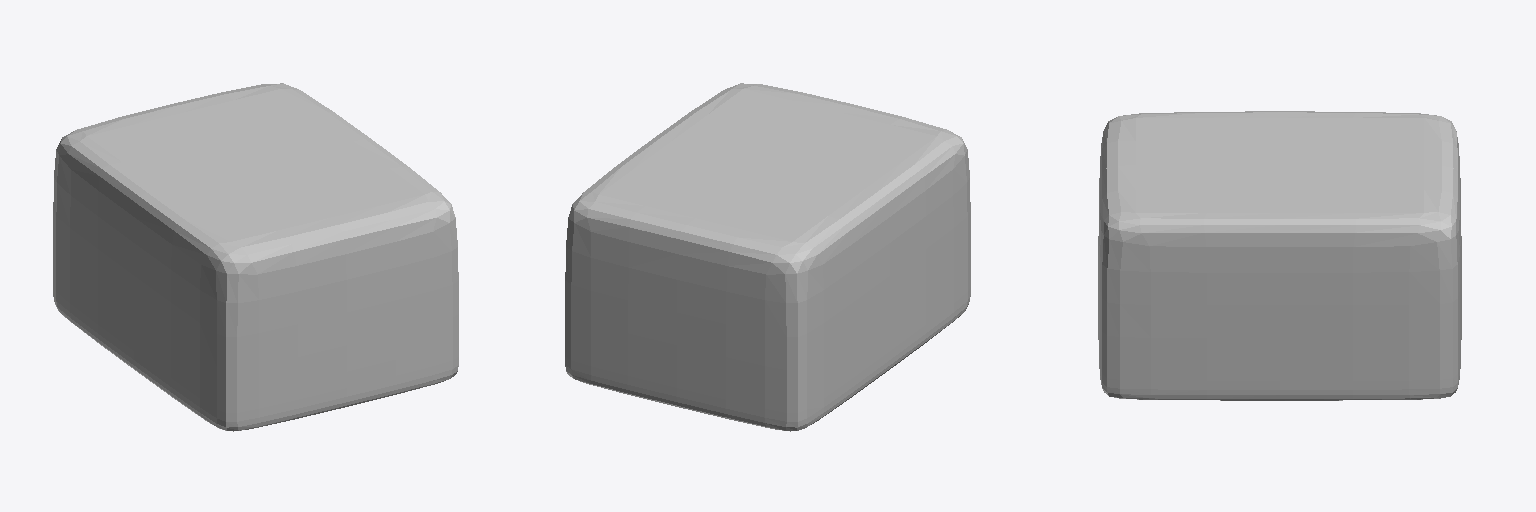
The model's file is tile_high.obj.
The picture shows the model from 3 angles: view 1: azimuth 30°, elevation 25°; view 2: azimuth 150°, elevation 25°; view 3: azimuth 270°, elevation 25°; orthographic projection.
Parts seen in each view (by area): view 1: Top, Bottom; view 2: Top, Bottom; view 3: Top, Bottom.
Boxes of the visible parts, x1=… form: Top: x1=53, y1=83, x2=458, y2=396; Bottom: x1=53, y1=271, x2=458, y2=431; Top: x1=565, y1=83, x2=970, y2=396; Bottom: x1=565, y1=271, x2=970, y2=431; Top: x1=1098, y1=111, x2=1461, y2=364; Bottom: x1=1098, y1=323, x2=1461, y2=400.
Size of the model in its own units: 0.3506 by 0.249 by 0.4524.